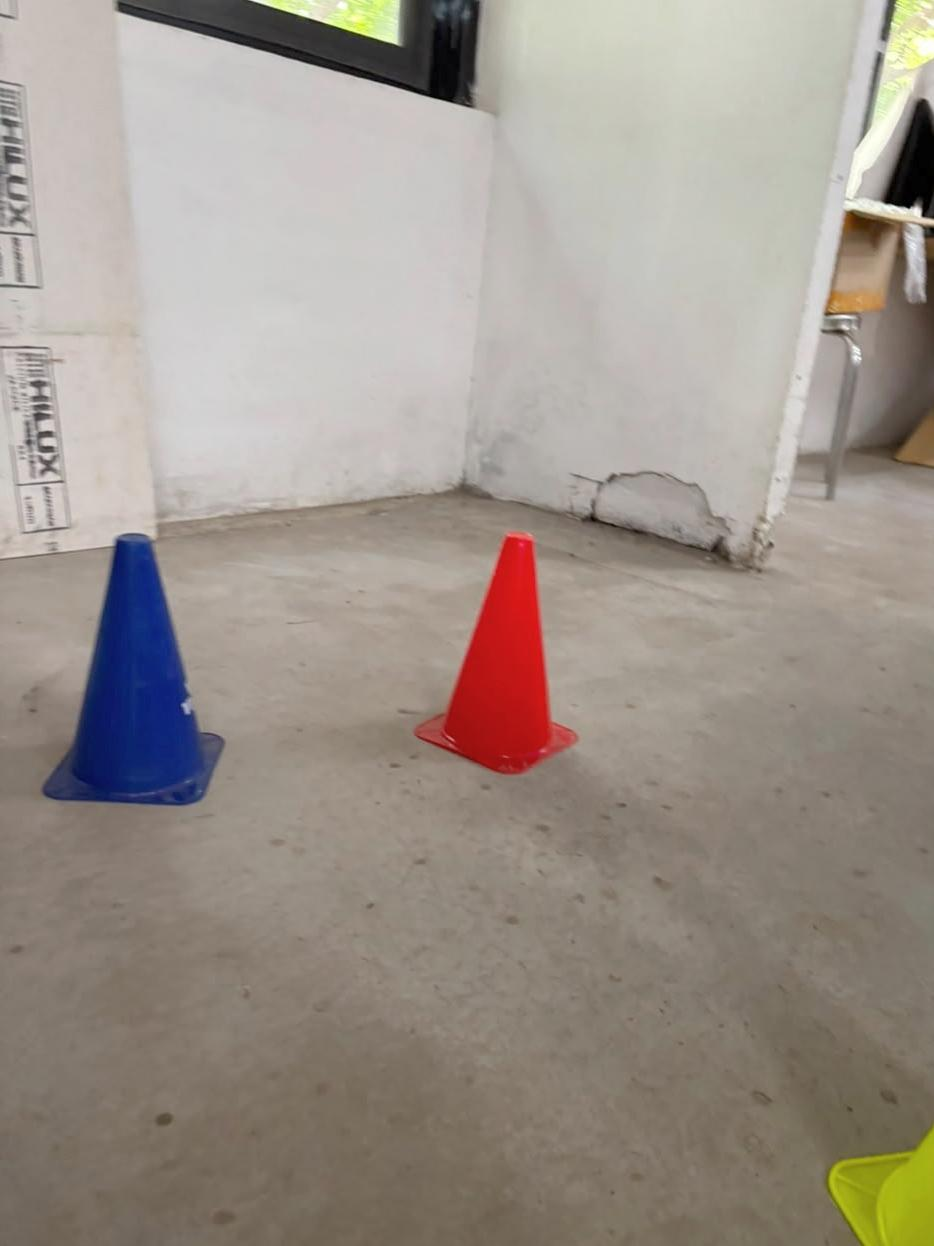0 cone: (43, 534, 223, 805), (415, 532, 577, 775)
